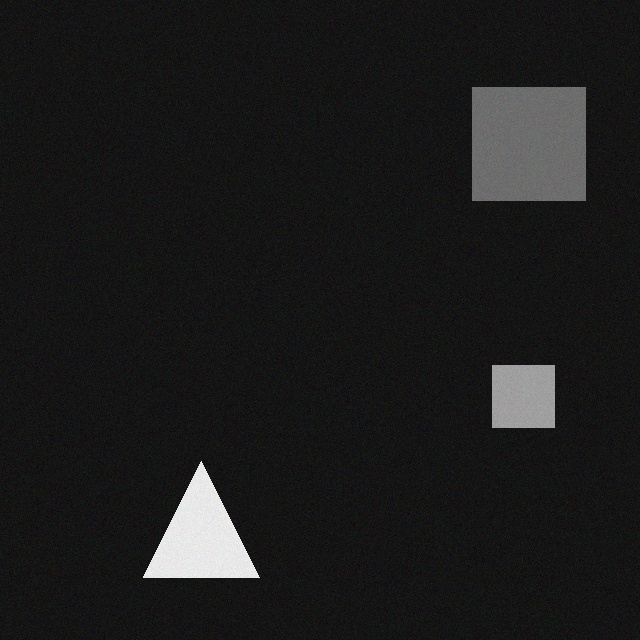square: (471, 78, 584, 191), (491, 356, 553, 418)
triangle: (142, 452, 258, 568)
